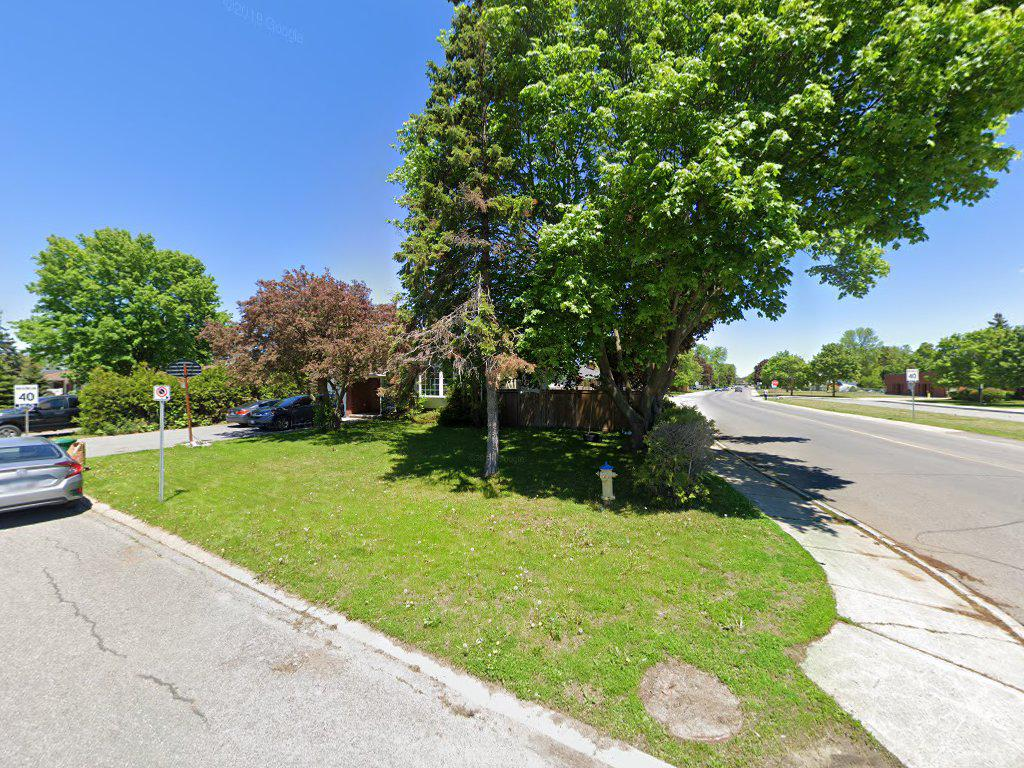trunk: (605, 339, 672, 458)
